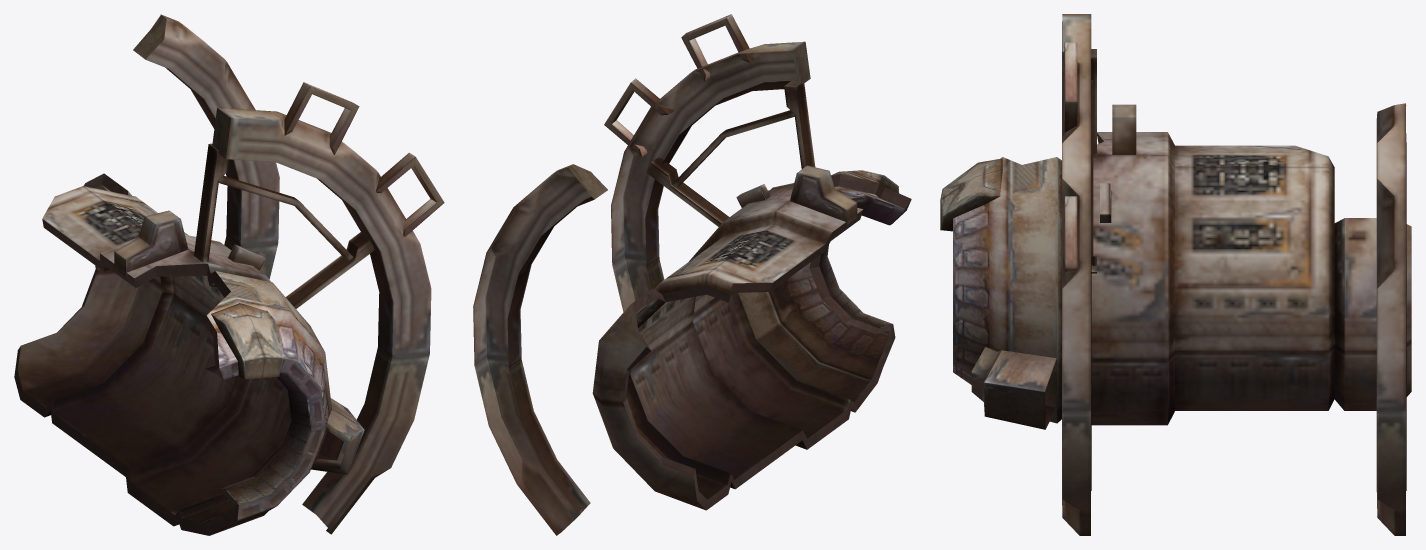
The model's file is yw_leinabao_jianzhu06.FBX.
The picture shows the model from 3 angles, left to right: view 1: azimuth 30°, elevation 25°; view 2: azimuth 150°, elevation 25°; view 3: azimuth 270°, elevation 25°; orthographic projection. The views are drawn at different scales.
Visible parts, largest first — view 1: yw_leinabao_jianzhu06; view 2: yw_leinabao_jianzhu06; view 3: yw_leinabao_jianzhu06.
Boxes of the visible parts, x1,y1,x2,y2 form: yw_leinabao_jianzhu06: (14,14,444,535); yw_leinabao_jianzhu06: (473,14,911,535); yw_leinabao_jianzhu06: (940,14,1411,535).
Bounding box in the file's own units: 1088 × 1620 × 1445.
